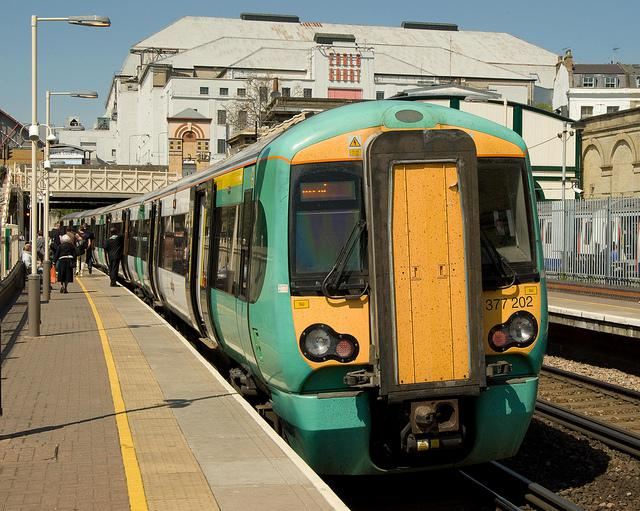Train: (65, 100, 549, 483)
